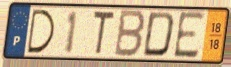1: (64, 9, 79, 56)
B: (112, 8, 148, 59)
D: (141, 11, 177, 59), (26, 8, 57, 55)
E: (172, 10, 207, 61)
T: (91, 9, 116, 58)
